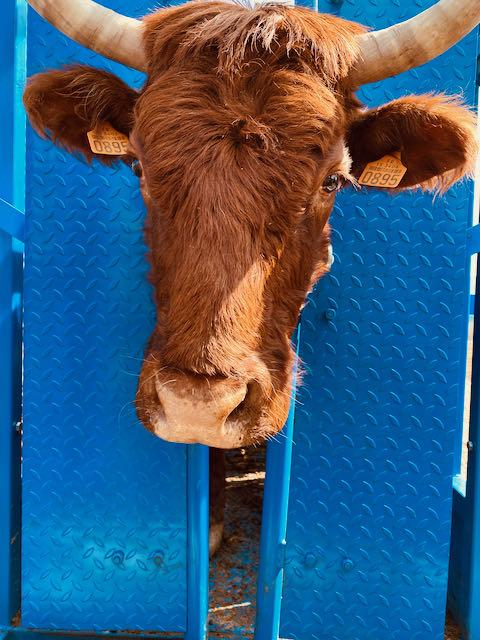muzzles: (134, 362, 286, 454)
